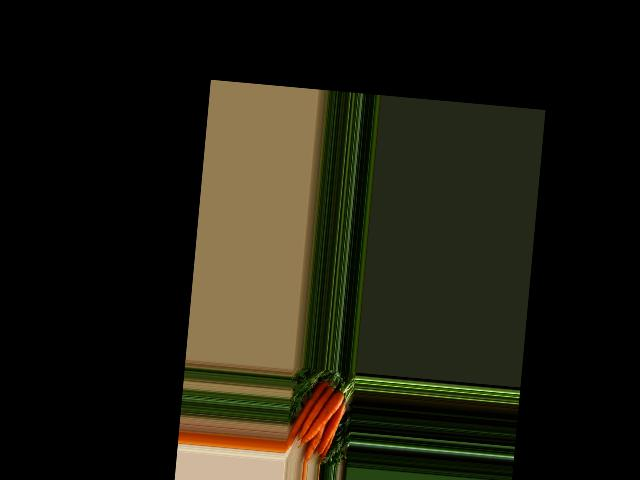carrot: (284, 373, 330, 454)
